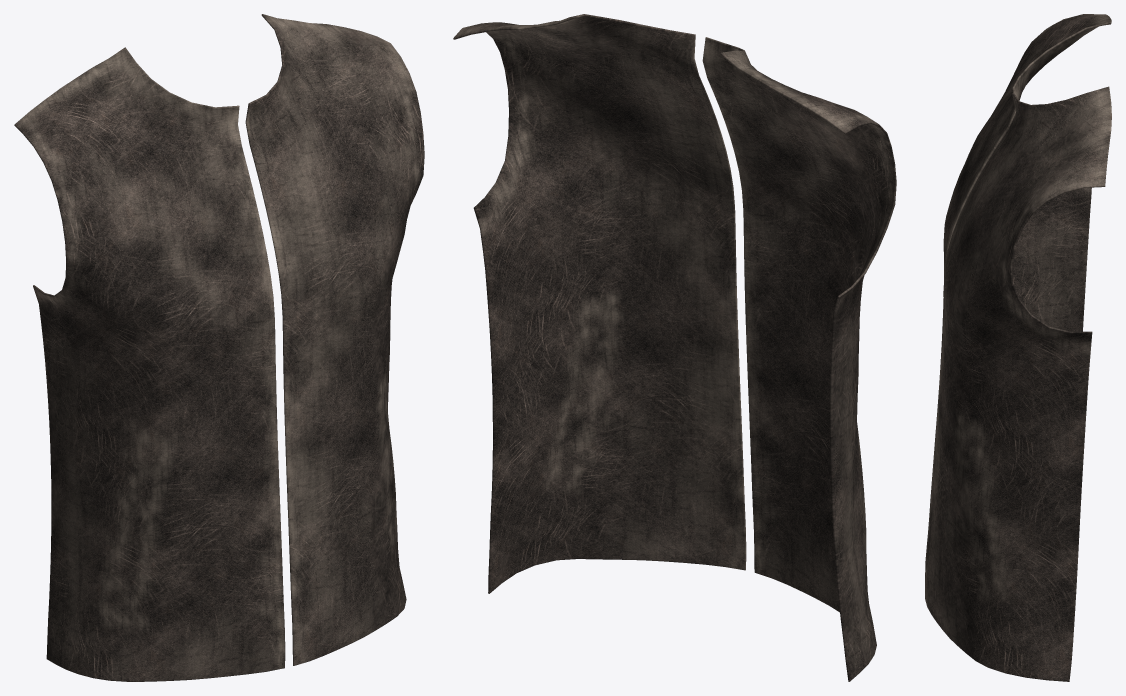
The picture shows the model from 3 angles, left to right: view 1: azimuth 30°, elevation 25°; view 2: azimuth 150°, elevation 25°; view 3: azimuth 270°, elevation 25°; orthographic projection. The views are drawn at different scales.
Parts seen in each view (by area): view 1: CF-CR-FR-P; view 2: CF-CR-FR-P (×2); view 3: CF-CR-FR-P (×2).
Part boxes in pixels (left/top/right/bottom): CF-CR-FR-P: left=14, top=14, right=424, bottom=681; CF-CR-FR-P (×2): left=453, top=14, right=896, bottom=681; CF-CR-FR-P (×2): left=925, top=14, right=1111, bottom=681.
Bounding box in the file's own units: 0.3845 × 0.5717 × 0.1763.
1 material, 1 textured.
